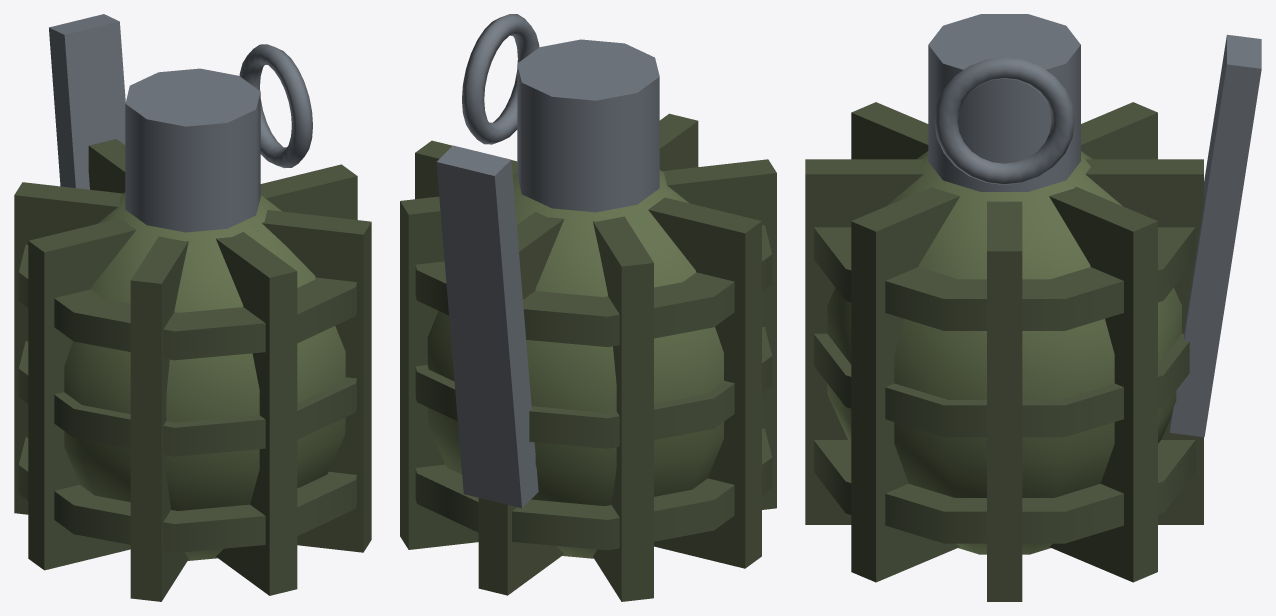
File: frag.glb
3 renders of one model, left to right at view 1: azimuth 30°, elevation 25°; view 2: azimuth 150°, elevation 25°; view 3: azimuth 270°, elevation 25°, orthographic. The views are drawn at different scales.
Parts seen in each view (by area): view 1: Merged; view 2: Merged; view 3: Merged.
Boxes of the visible parts, x1,y1,x2,y2 form: Merged: (14, 14, 371, 601); Merged: (400, 14, 776, 601); Merged: (805, 14, 1261, 601).
Size of the model in its own units: 0.1326 by 0.194 by 0.1518.
